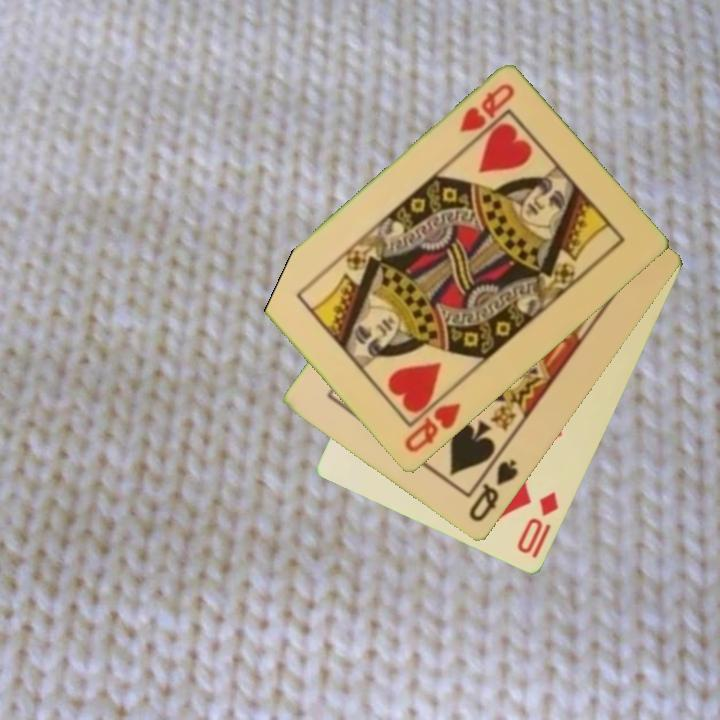10d: (513, 489, 562, 562)
Qh: (400, 399, 464, 456), (456, 80, 518, 136)
Qs: (465, 456, 521, 526)
